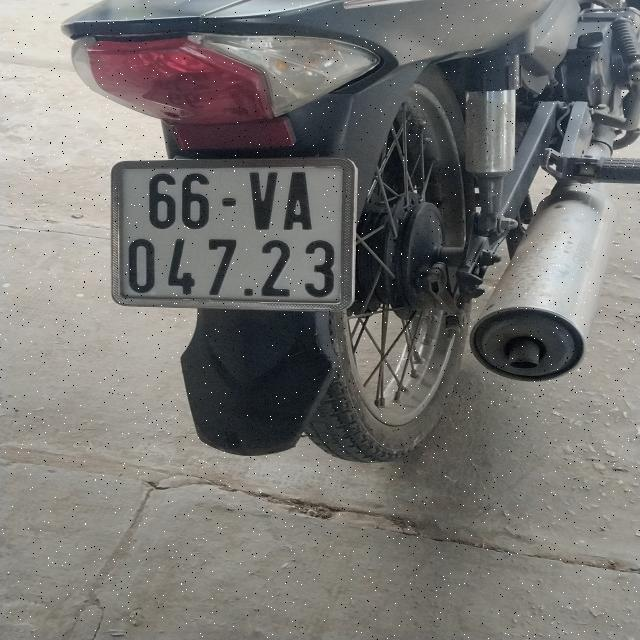0: (127, 239, 163, 300)
2: (261, 237, 292, 298)
3: (306, 237, 340, 301)
4: (169, 232, 198, 298)
6: (177, 166, 212, 232), (148, 167, 177, 230)
7: (202, 233, 240, 298)
A: (278, 170, 316, 234)
V: (245, 169, 275, 228)
